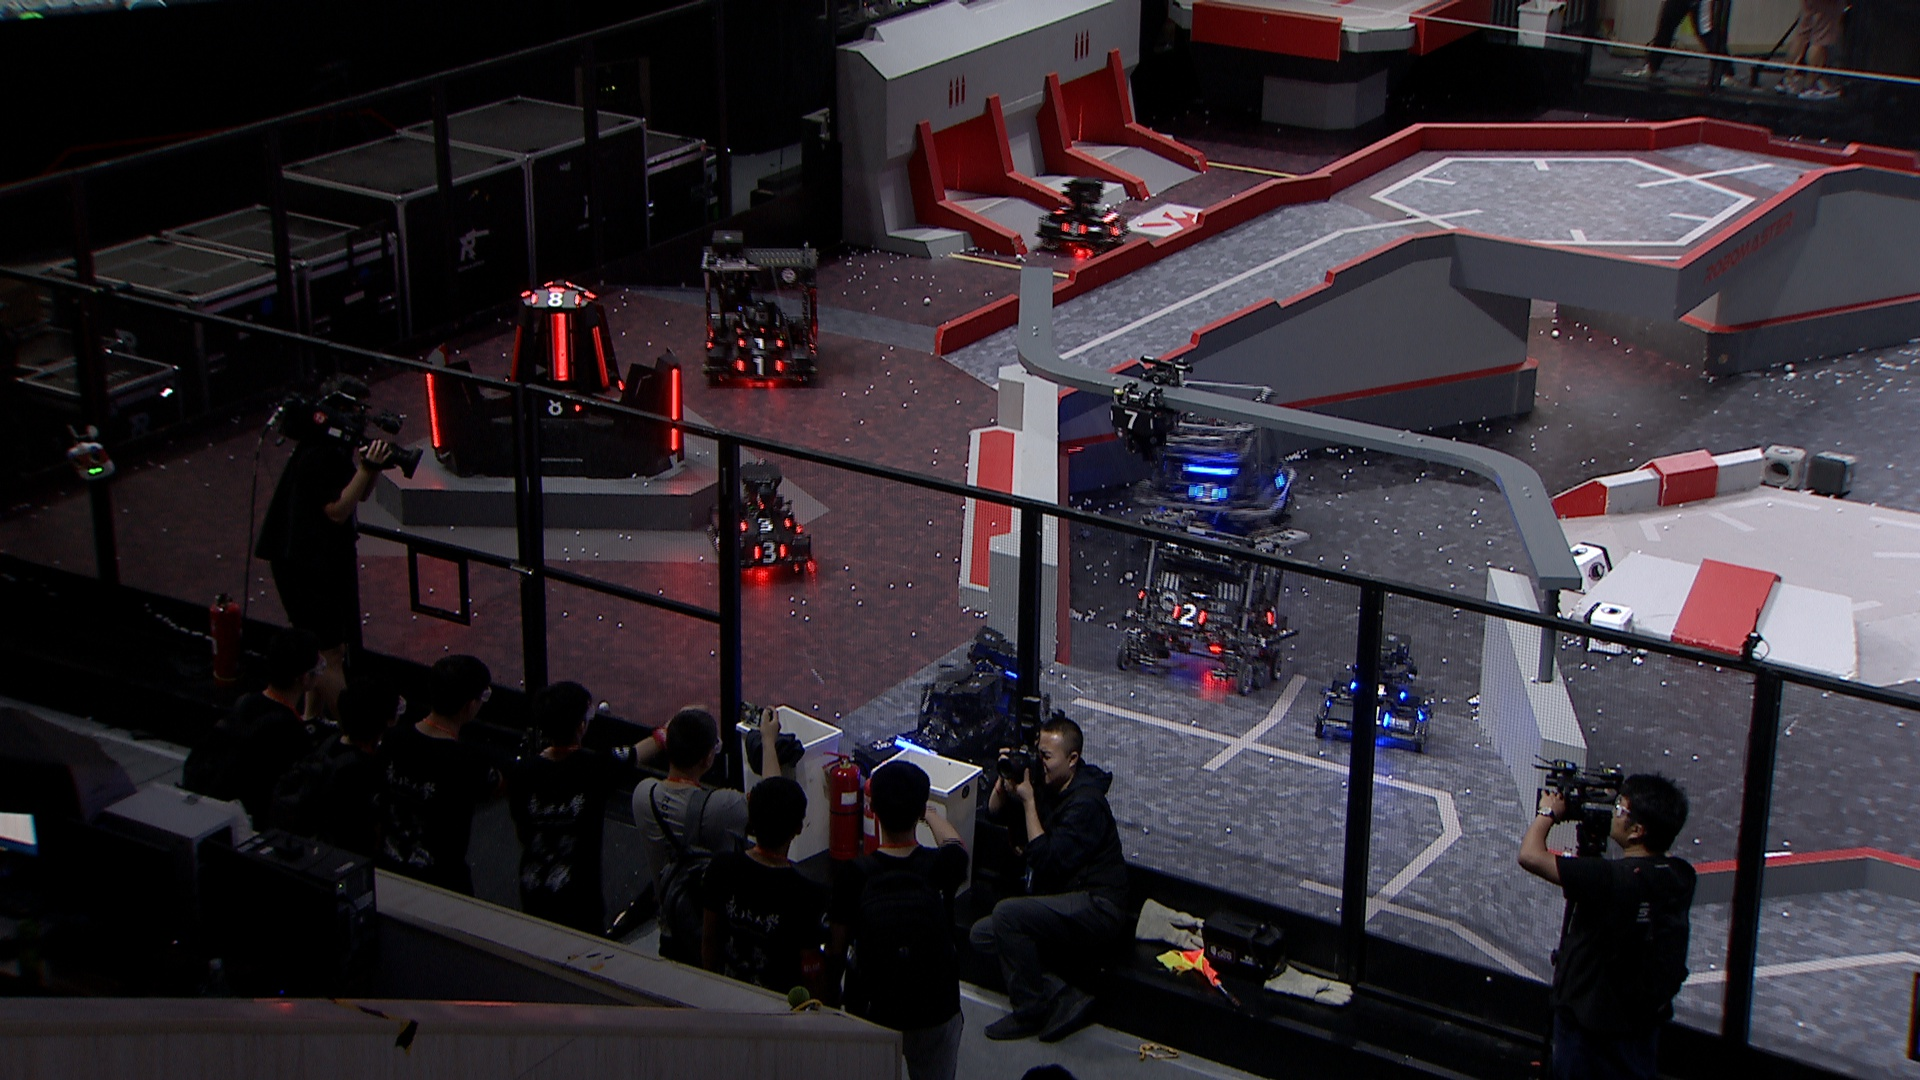armor: (549, 313, 571, 384), (666, 367, 684, 452), (423, 371, 442, 451), (1349, 679, 1408, 703), (589, 324, 612, 386), (738, 514, 794, 537), (1110, 407, 1155, 433), (1171, 599, 1209, 628), (1185, 479, 1229, 504), (732, 353, 783, 375), (506, 323, 524, 385), (527, 291, 583, 309), (736, 334, 785, 352), (541, 396, 580, 417), (752, 541, 790, 562), (1367, 703, 1394, 728), (1059, 219, 1088, 237), (1265, 604, 1283, 629), (1110, 220, 1127, 239)
base: (419, 281, 684, 479)
car: (1110, 505, 1313, 698), (849, 655, 1051, 829), (1131, 376, 1300, 533), (698, 225, 827, 389), (1313, 632, 1441, 749), (700, 458, 814, 575), (1039, 174, 1134, 262)
watcher: (1109, 353, 1195, 463)
